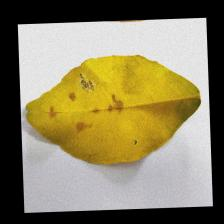black spot: (43, 74, 126, 134)
